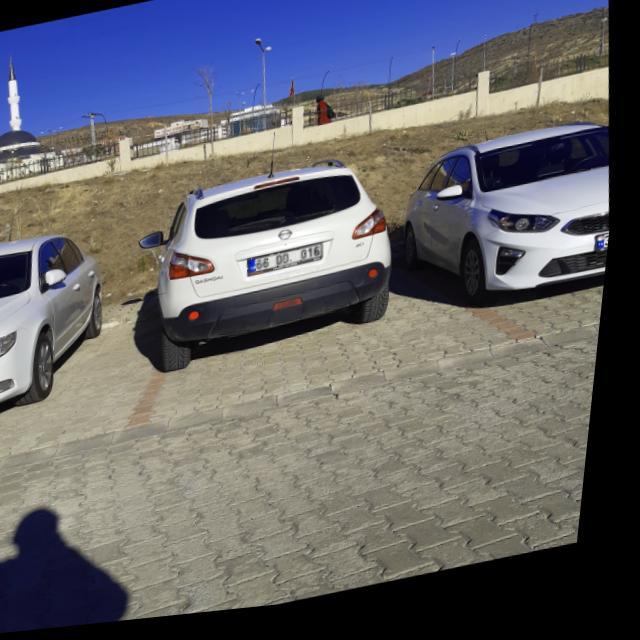license_plate: (252, 250, 331, 279)
